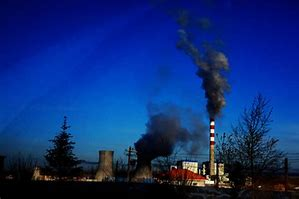smoke: (176, 19, 232, 120), (120, 113, 180, 161)
